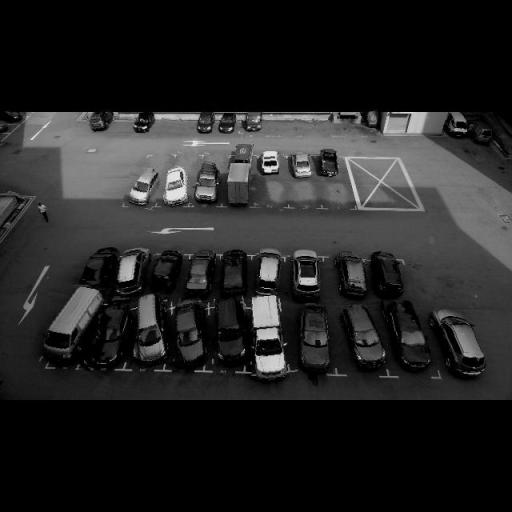busy: (35, 279, 103, 369), (245, 293, 296, 384), (164, 296, 214, 372), (128, 292, 178, 368), (340, 302, 392, 370), (206, 297, 253, 370), (440, 313, 490, 380), (388, 305, 438, 372), (293, 304, 337, 374), (333, 252, 373, 300), (288, 250, 325, 298), (368, 252, 406, 298), (114, 248, 148, 298), (124, 166, 160, 210), (252, 250, 286, 296), (160, 165, 194, 209), (182, 252, 213, 298), (192, 164, 222, 208), (150, 252, 181, 294), (220, 250, 247, 298), (316, 150, 342, 180), (443, 114, 474, 138), (257, 151, 285, 177), (288, 154, 316, 179), (468, 120, 495, 144), (86, 111, 112, 132), (214, 116, 237, 134), (132, 116, 154, 134), (195, 116, 215, 134), (243, 116, 264, 132), (0, 112, 26, 124), (361, 112, 380, 128)
free: (254, 178, 288, 212), (318, 183, 348, 206), (292, 180, 314, 209), (203, 150, 229, 172), (174, 152, 202, 171), (145, 151, 173, 169), (160, 118, 188, 134), (314, 119, 334, 135), (292, 118, 312, 133), (267, 120, 287, 134), (114, 123, 130, 133)
